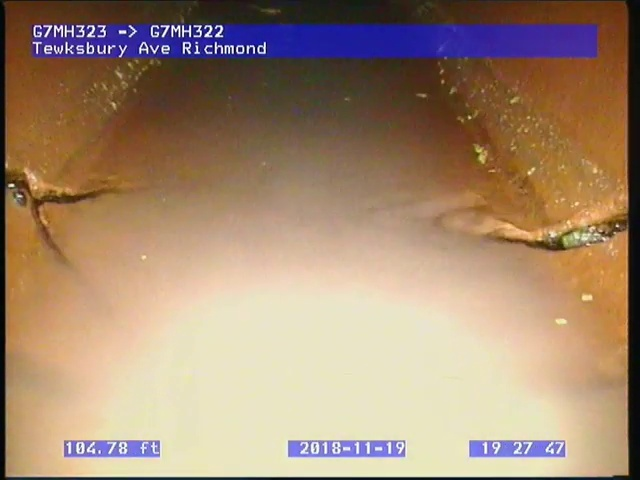crack: (3, 159, 168, 276), (423, 186, 628, 255)
